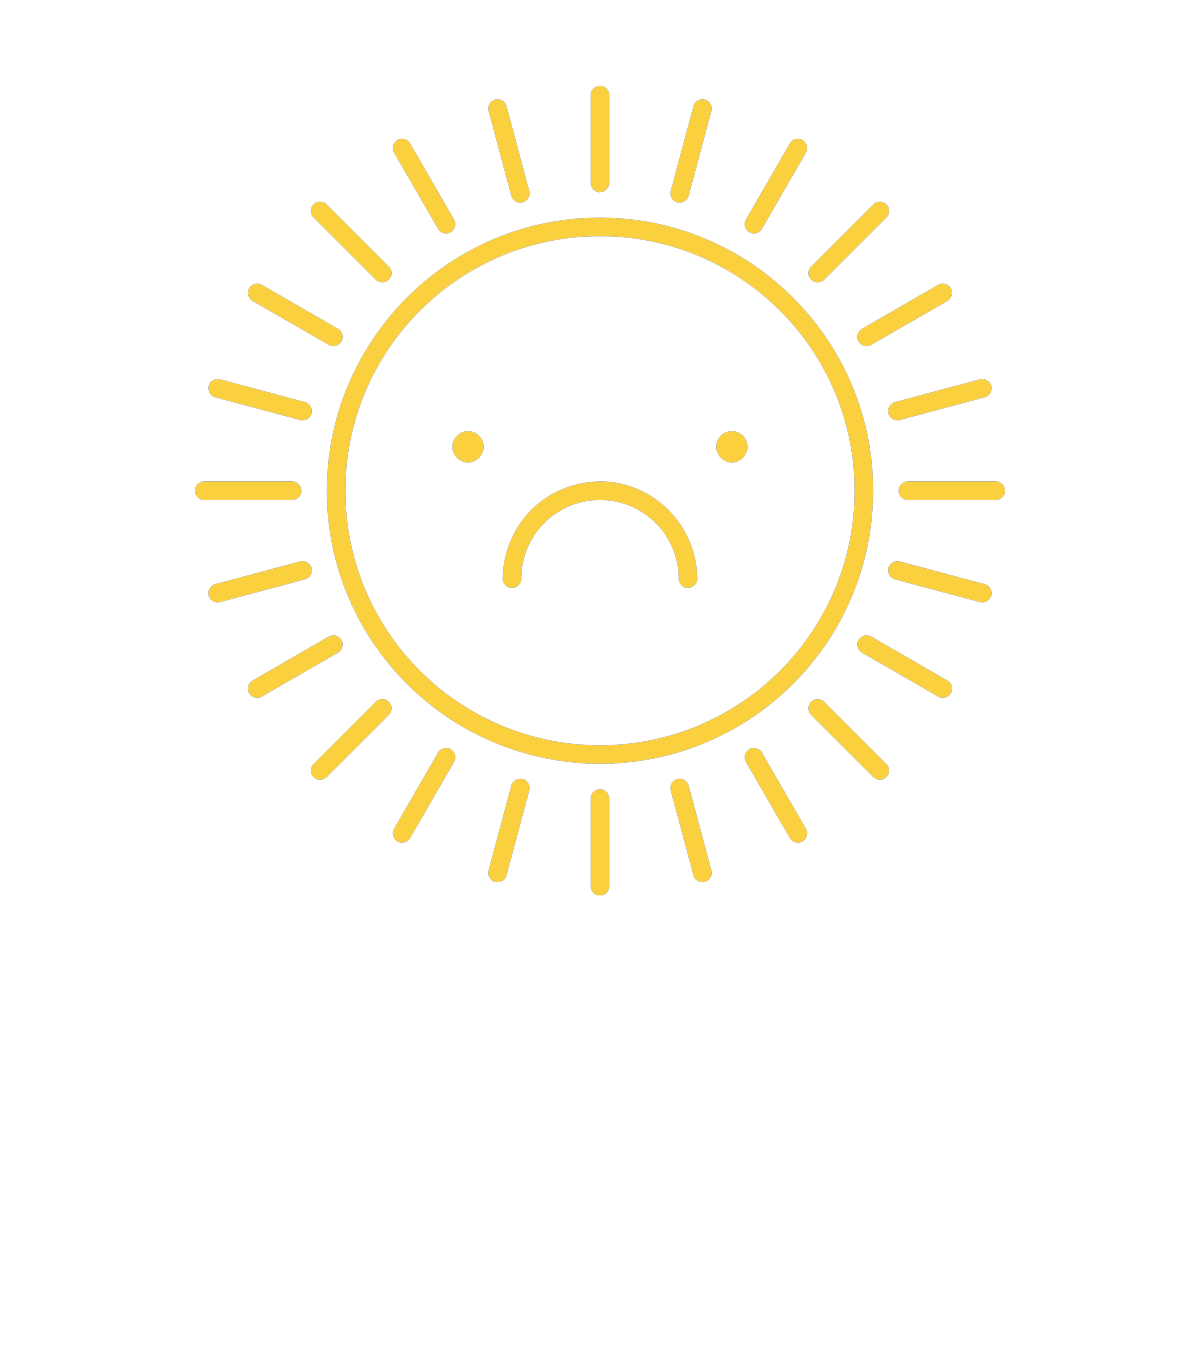design: (171, 63, 1016, 930)
